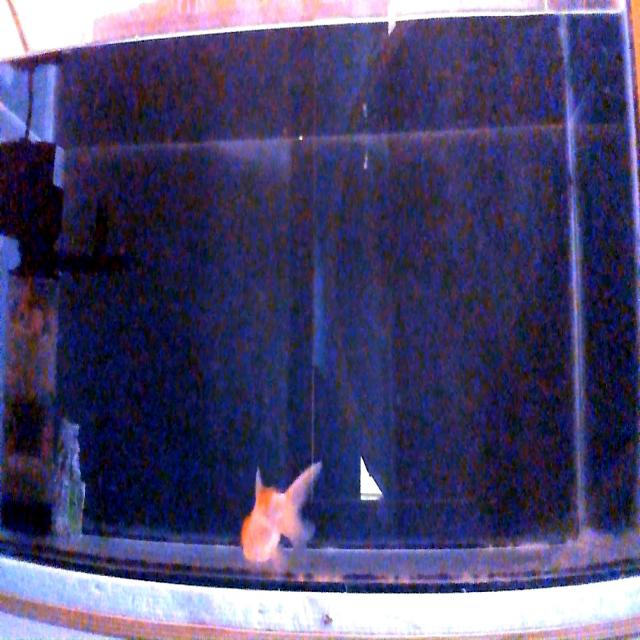fish: (239, 460, 323, 564)
